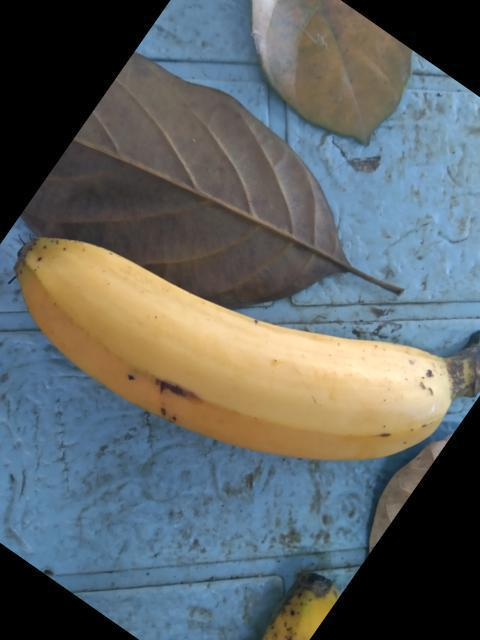freshripe: (12, 214, 479, 487)
